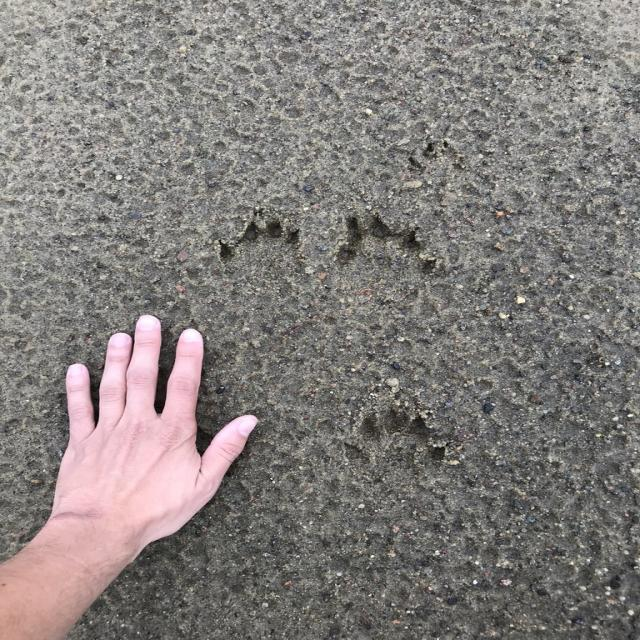mustelid: (338, 214, 440, 308), (343, 404, 446, 489), (218, 218, 306, 290)
